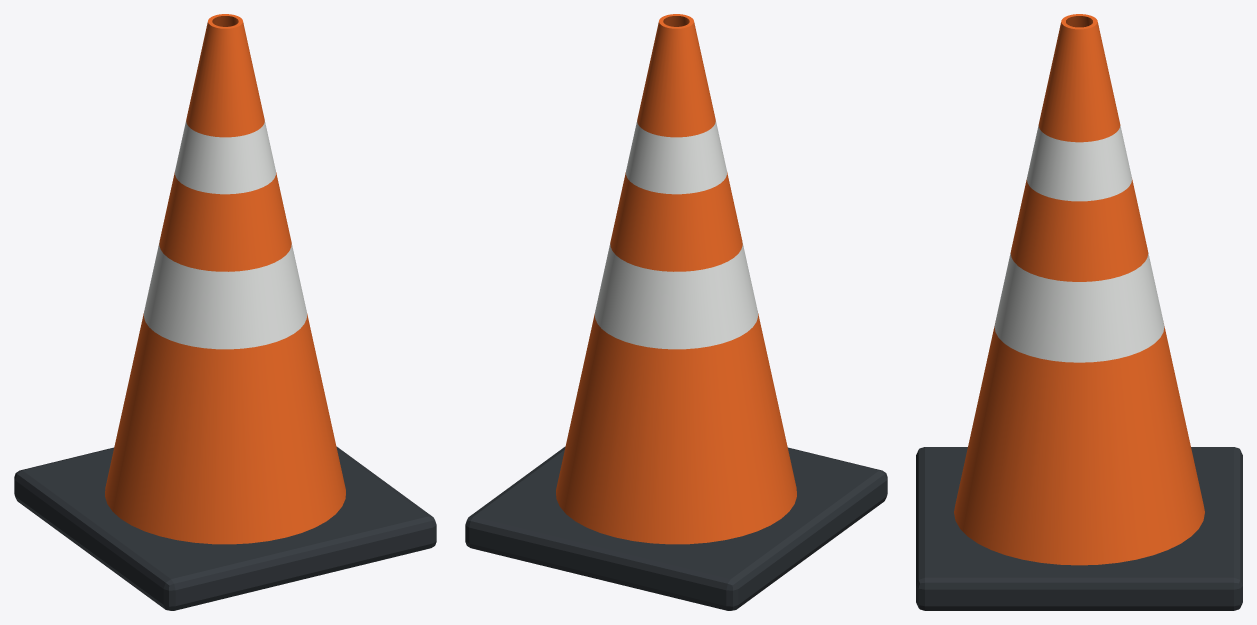
Rendered from traffic_cone_tall.glb.
The picture shows the model from 3 angles, left to right: view 1: azimuth 30°, elevation 25°; view 2: azimuth 150°, elevation 25°; view 3: azimuth 270°, elevation 25°; orthographic projection. The views are drawn at different scales.
Visible parts, largest first — view 1: Hollow tapered cone with reflective bands, Heavy square rubber base; view 2: Hollow tapered cone with reflective bands, Heavy square rubber base; view 3: Hollow tapered cone with reflective bands, Heavy square rubber base.
Boxes of the visible parts, <box> form: Hollow tapered cone with reflective bands: <box>105,14,345,544</box>; Heavy square rubber base: <box>14,446,436,610</box>; Hollow tapered cone with reflective bands: <box>556,14,796,544</box>; Heavy square rubber base: <box>465,446,887,610</box>; Hollow tapered cone with reflective bands: <box>954,14,1204,565</box>; Heavy square rubber base: <box>916,447,1242,610</box>.
Size of the model in its own units: 0.43 by 0.76 by 0.43.
